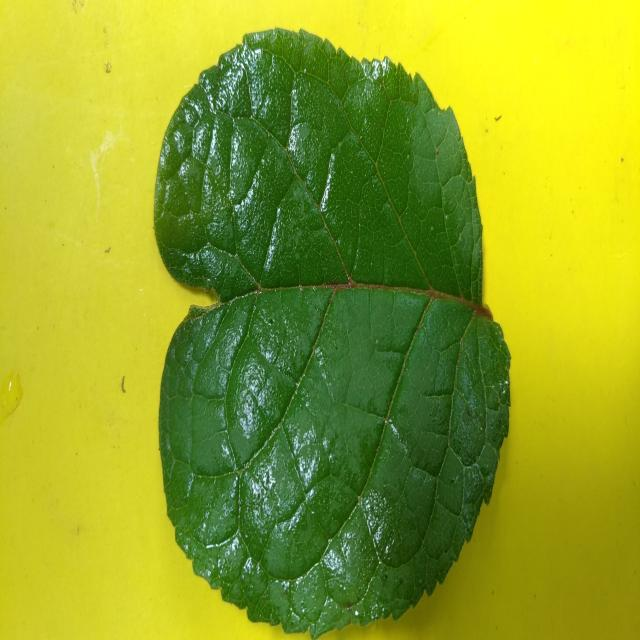padri: (155, 29, 510, 636)
